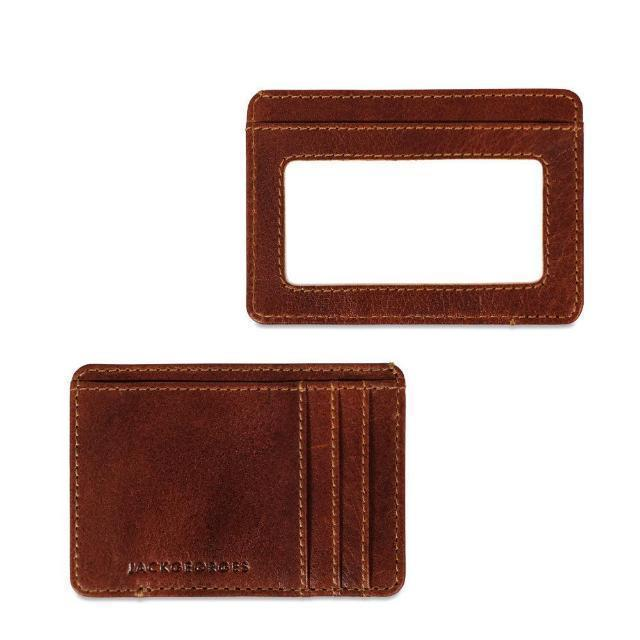wallet: (238, 82, 586, 326), (65, 359, 407, 601)
